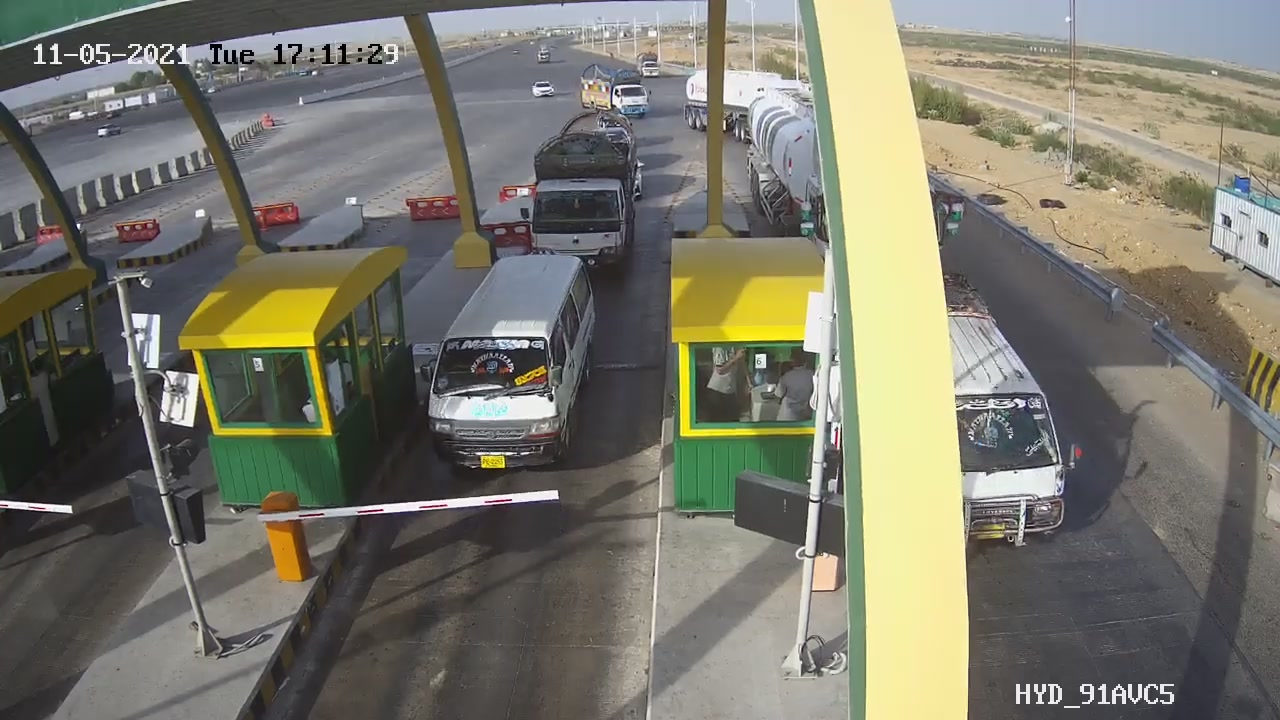F5: (505, 99, 656, 288)
